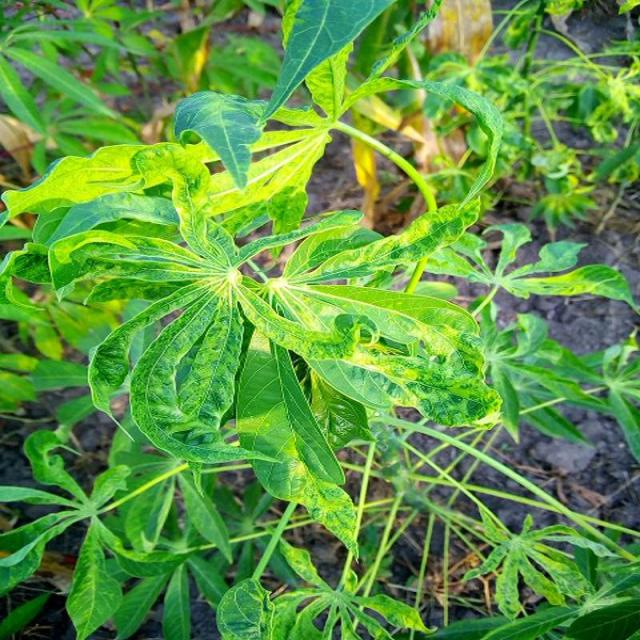cassava leaf: (1, 4, 506, 559)
